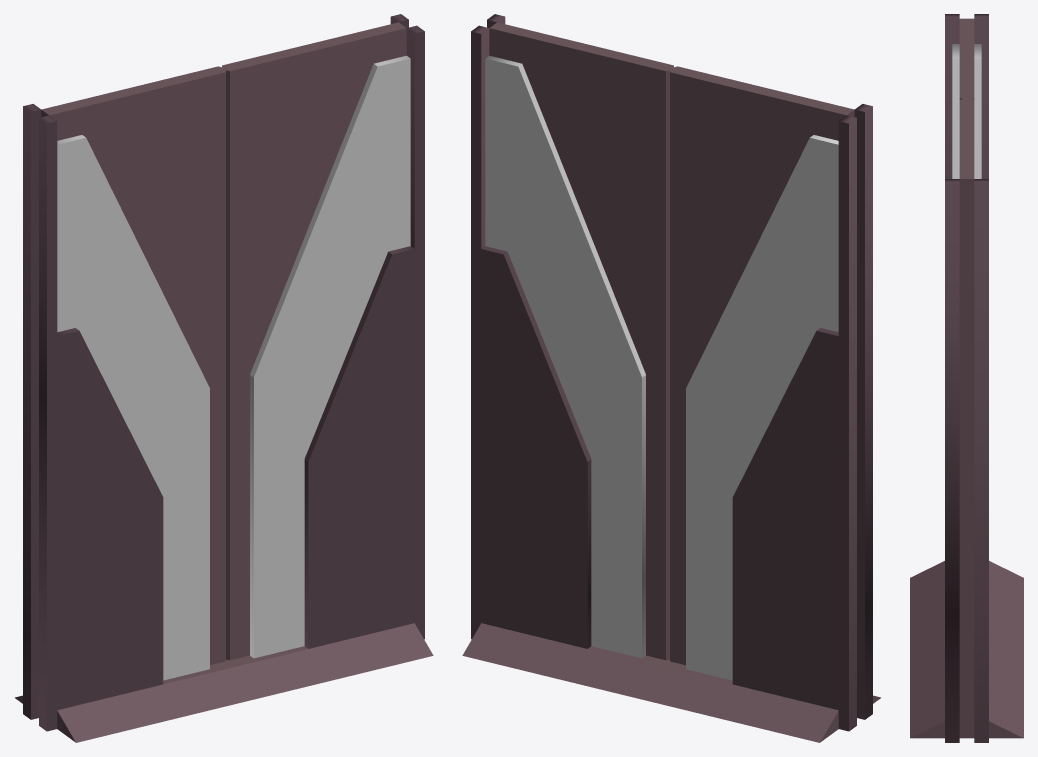
File: red_door_narrow.fbx
The picture shows the model from 3 angles, left to right: view 1: azimuth 30°, elevation 25°; view 2: azimuth 150°, elevation 25°; view 3: azimuth 270°, elevation 25°; orthographic projection. The views are drawn at different scales.
Parts seen in each view (by area): view 1: RedDoorNarrow; view 2: RedDoorNarrow; view 3: RedDoorNarrow.
Part boxes in pixels (bbox=[...]): RedDoorNarrow: bbox=[15, 14, 433, 742]; RedDoorNarrow: bbox=[462, 14, 880, 742]; RedDoorNarrow: bbox=[910, 14, 1023, 742].
Bounding box in the file's own units: 421 × 646 × 119.
